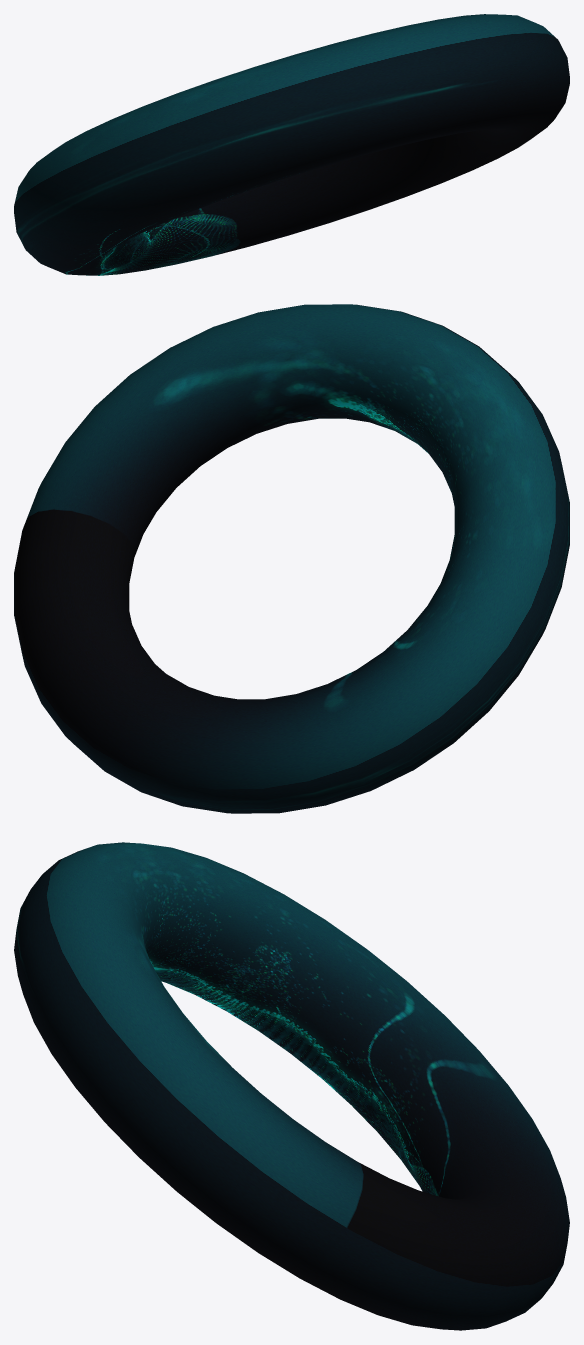
Rendered from texture1.dae.
3 views of the same model, one above another, from view 1: azimuth 30°, elevation 25°; view 2: azimuth 150°, elevation 25°; view 3: azimuth 270°, elevation 25° (orthographic). The views are drawn at different scales.
Parts seen in each view (by area): view 1: Torus; view 2: Torus; view 3: Torus.
Boxes of the visible parts, x1,y1,x2,y2 form: Torus: (14,14,569,275); Torus: (14,304,569,813); Torus: (14,842,569,1330).
Bounding box in the file's own units: 500 × 335 × 423.
1 material, 1 textured.
